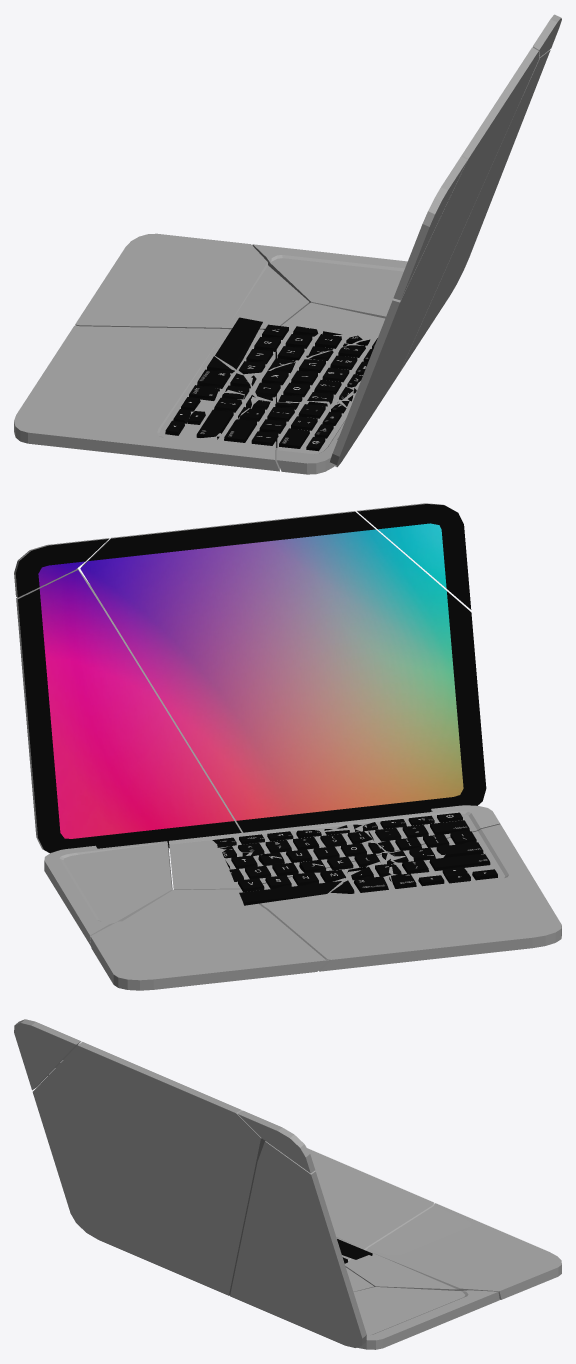
Rendered from fractured_laptop.fbx.
3 renders of one model, top to bottom at view 1: azimuth 30°, elevation 25°; view 2: azimuth 150°, elevation 25°; view 3: azimuth 270°, elevation 25°, orthographic. The views are drawn at different scales.
Visible parts, largest first — view 1: Main_cell, Main_cell.002, Screen_cell.001, Main_cell.003, Main_cell.001, Screen_cell.003, Buttons_cell.005, Buttons_cell.008, Buttons_cell.004, Buttons_cell.009, Screen_cell, Buttons_cell.001 (+1 smaller); view 2: Screen_cell.001, Screen_cell.003, Main_cell, Main_cell.002, Main_cell.003, Main_cell.001, Screen_cell, Buttons_cell.008, Buttons_cell.005, Buttons_cell.004, Screen_cell.004, Buttons_cell.009 (+1 smaller); view 3: Screen_cell.001, Screen_cell.003, Main_cell.002, Main_cell, Main_cell.003, Screen_cell, Screen_cell.004.
Part boxes in pixels (<box>): Main_cell: <box>14,325,279,471</box>; Main_cell.002: <box>75,233,309,329</box>; Screen_cell.001: <box>329,47,539,467</box>; Main_cell.003: <box>252,244,407,318</box>; Main_cell.001: <box>276,302,384,474</box>; Screen_cell.003: <box>399,50,550,372</box>; Buttons_cell.005: <box>215,317,362,374</box>; Buttons_cell.008: <box>251,338,377,404</box>; Buttons_cell.004: <box>217,400,346,451</box>; Buttons_cell.009: <box>165,385,251,437</box>; Screen_cell: <box>393,156,467,300</box>; Buttons_cell.001: <box>197,356,255,398</box>; Screen_cell.001: <box>80,511,486,832</box>; Screen_cell.003: <box>16,568,242,853</box>; Main_cell: <box>259,824,561,971</box>; Main_cell.002: <box>90,889,328,990</box>; Main_cell.003: <box>44,841,172,945</box>; Main_cell.001: <box>169,805,500,889</box>; Screen_cell: <box>357,503,471,609</box>; Buttons_cell.008: <box>212,829,387,872</box>; Buttons_cell.005: <box>222,849,345,905</box>; Buttons_cell.004: <box>362,812,484,857</box>; Screen_cell.004: <box>14,538,109,597</box>; Buttons_cell.009: <box>391,854,497,888</box>; Screen_cell.001: <box>32,1042,264,1295</box>; Screen_cell.003: <box>230,1141,366,1347</box>; Main_cell.002: <box>345,1203,561,1299</box>; Main_cell: <box>307,1148,434,1260</box>; Main_cell.003: <box>353,1287,499,1349</box>; Screen_cell: <box>14,1019,81,1090</box>; Screen_cell.004: <box>237,1110,315,1173</box>.
Size of the model in its own units: 57.01 by 28.13 by 56.96.
